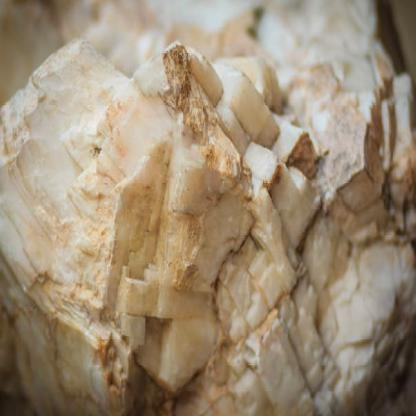Sedimentary_Limestone: (0, 11, 408, 415)
